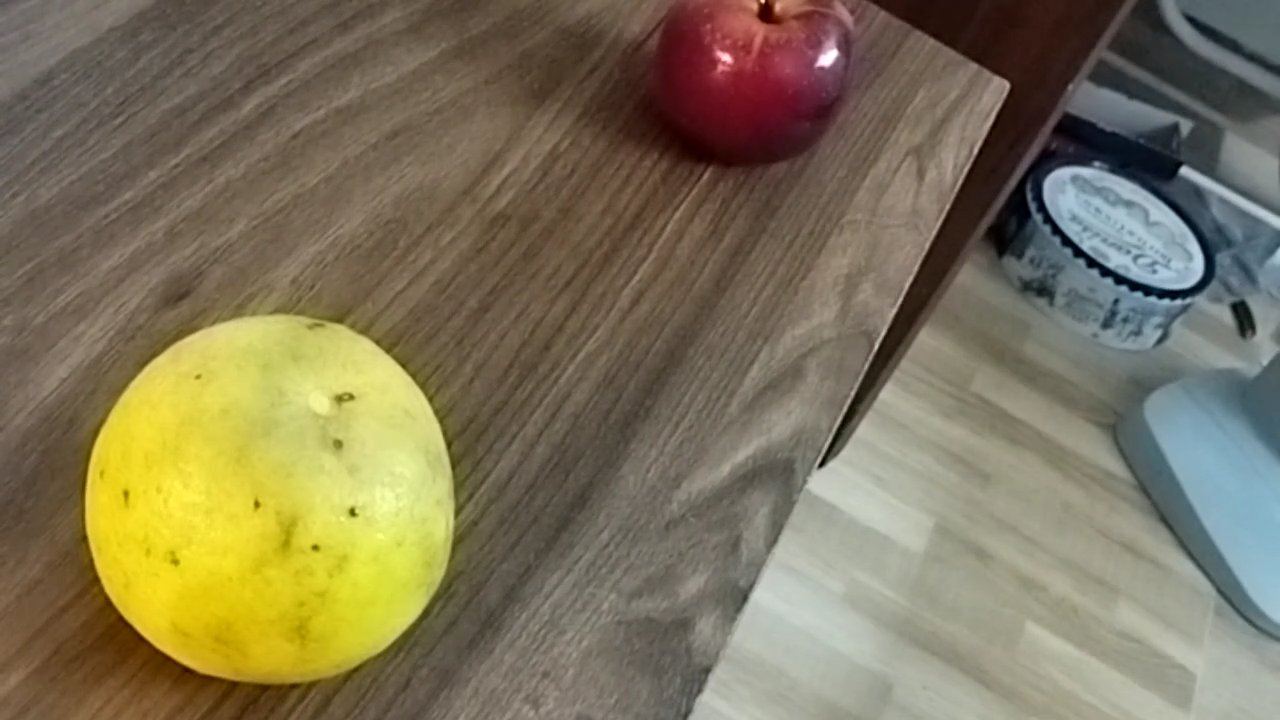apple_fresh: (633, 5, 873, 163)
orange_rotten: (82, 313, 458, 687)
